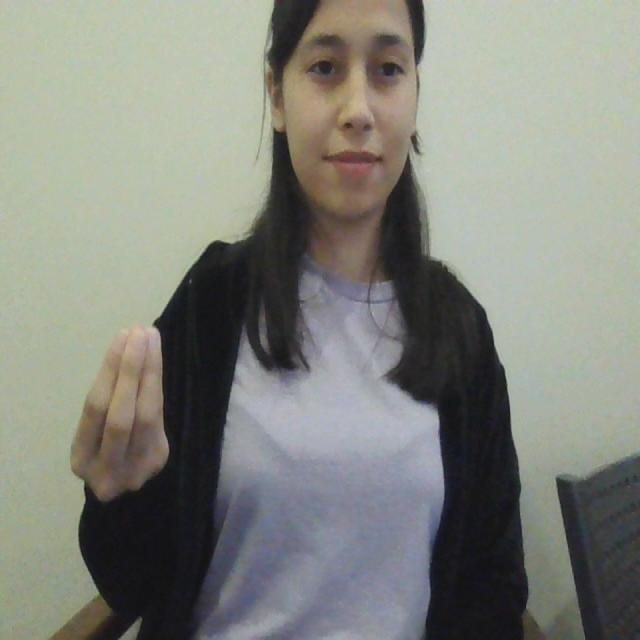iyi: (67, 315, 176, 504)
